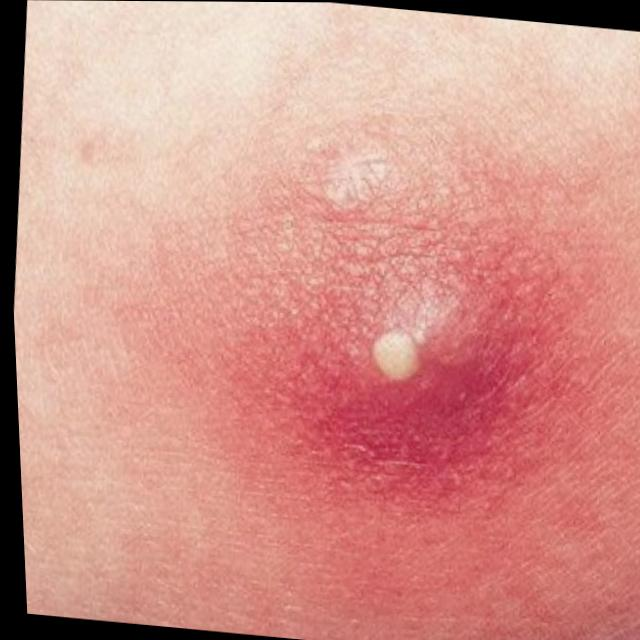pustule: (336, 289, 508, 435)
